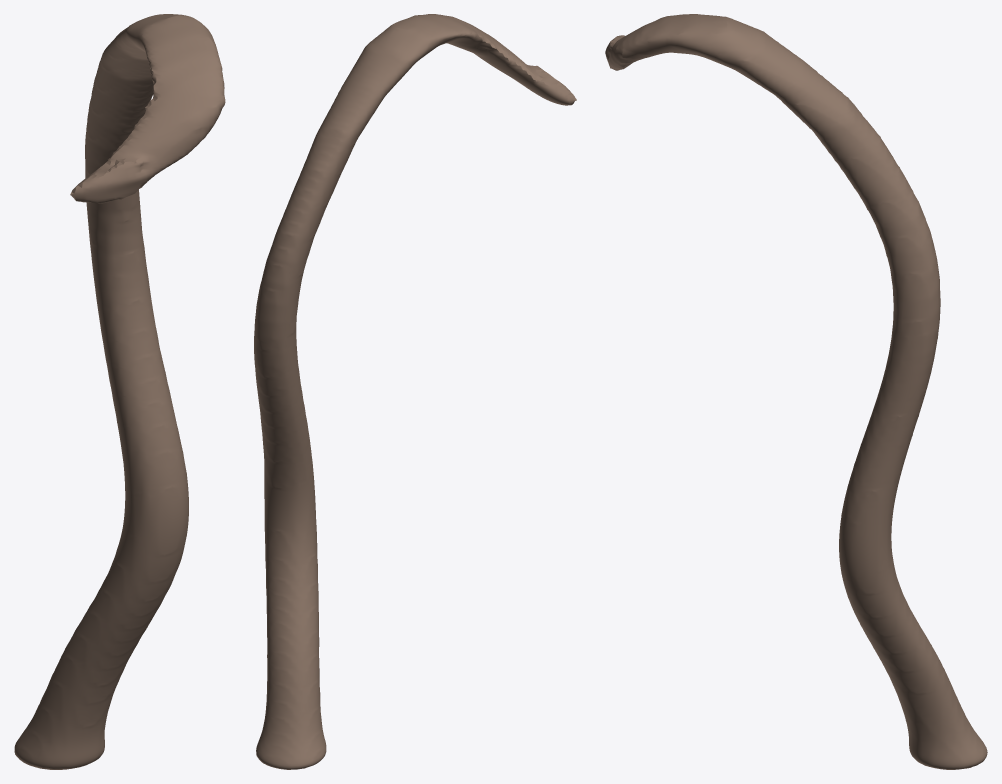
File: bigcurvyspikestem.fbx
3 views of the same model, side by side, from view 1: azimuth 30°, elevation 25°; view 2: azimuth 150°, elevation 25°; view 3: azimuth 270°, elevation 25° (orthographic). The views are drawn at different scales.
Visible parts, largest first — view 1: Cube.001; view 2: Cube.001; view 3: Cube.001.
Part boxes in pixels (box(x1,y1,x2,y2)): Cube.001: box(14, 14, 225, 769); Cube.001: box(254, 14, 576, 769); Cube.001: box(605, 14, 987, 769).
Size of the model in its own units: 261 by 826 by 393.
